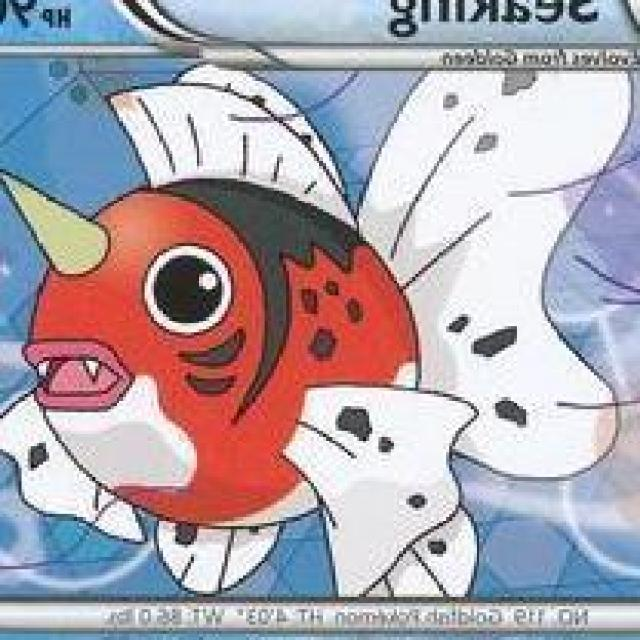Seaking: (0, 99, 480, 576)
